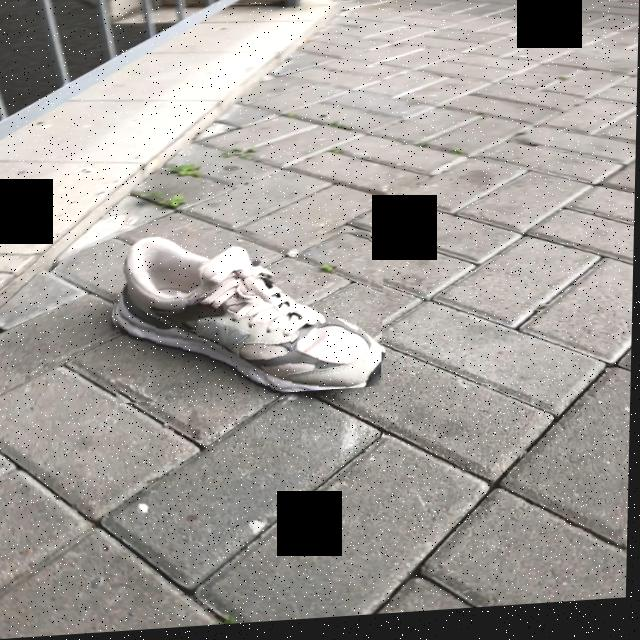shoe: (115, 241, 383, 396)
